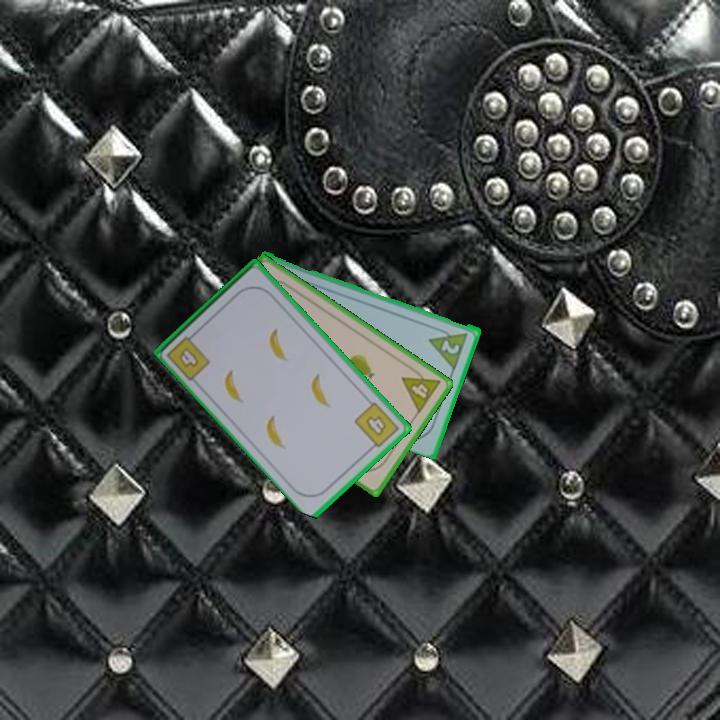2p: (426, 323, 471, 371)
4b: (350, 398, 402, 453), (163, 328, 213, 383)
4p: (398, 362, 444, 416)
